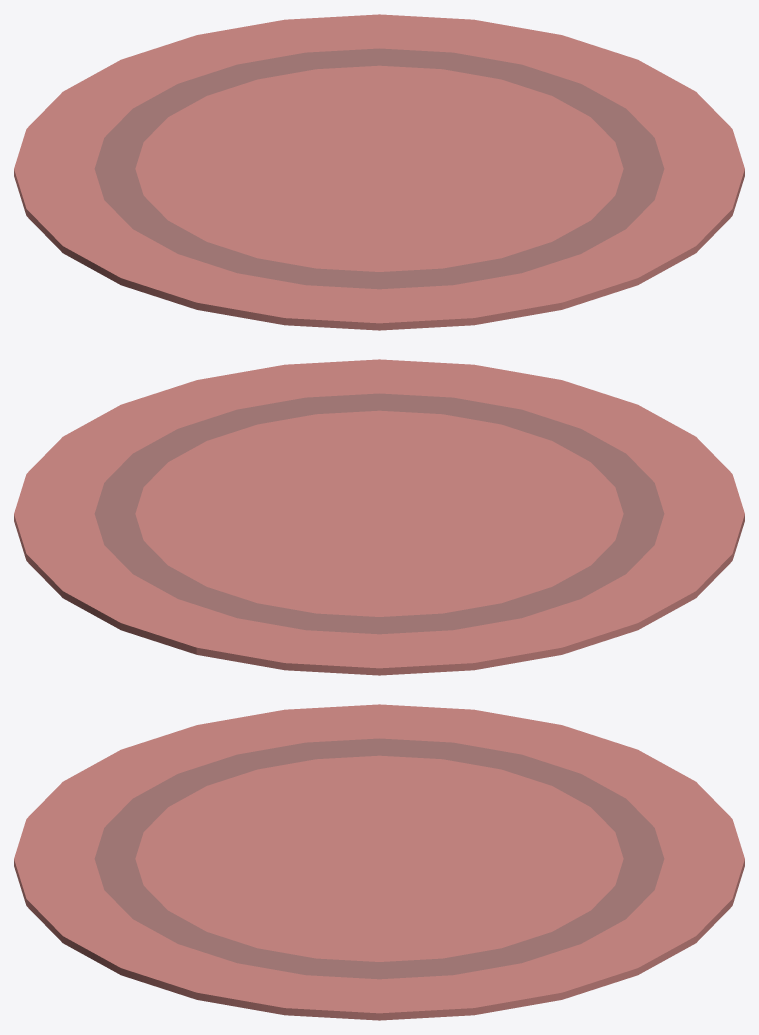
The model's file is rugRound.glb.
3 renders of one model, top to bottom at view 1: azimuth 30°, elevation 25°; view 2: azimuth 150°, elevation 25°; view 3: azimuth 270°, elevation 25°, orthographic.
Parts seen in each view (by area): view 1: rugRound; view 2: rugRound; view 3: rugRound.
Part boxes in pixels (bbox=[...]): rugRound: bbox=[14, 14, 744, 330]; rugRound: bbox=[14, 359, 744, 675]; rugRound: bbox=[14, 704, 744, 1020].
Size of the model in its own units: 0.92 by 0.01 by 0.92.
